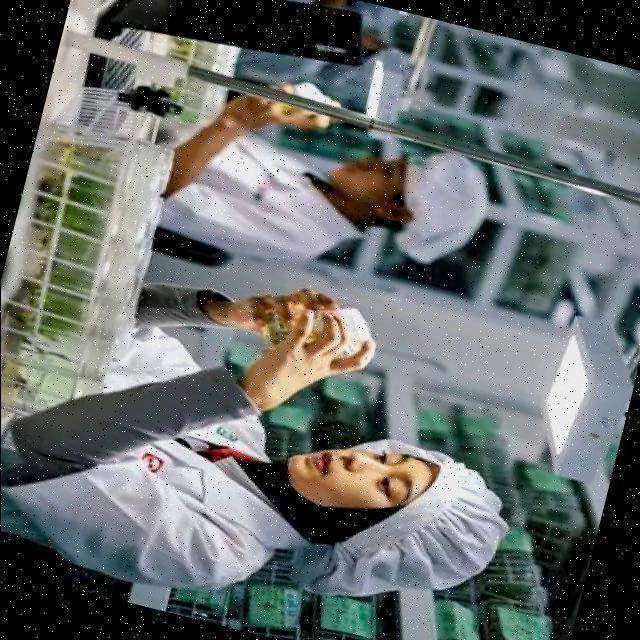no_apron: (226, 306, 366, 420), (428, 414, 432, 416)
